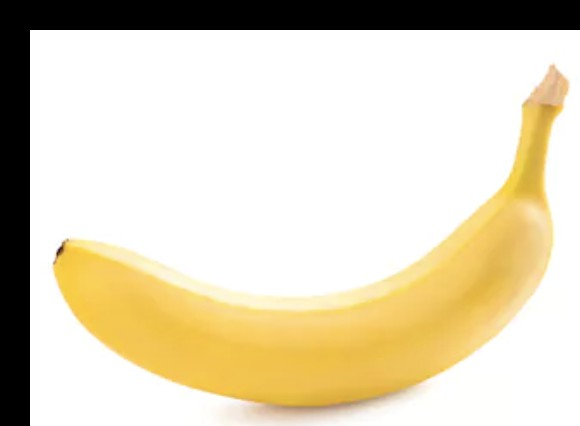fresh_banana: (54, 62, 568, 409)
